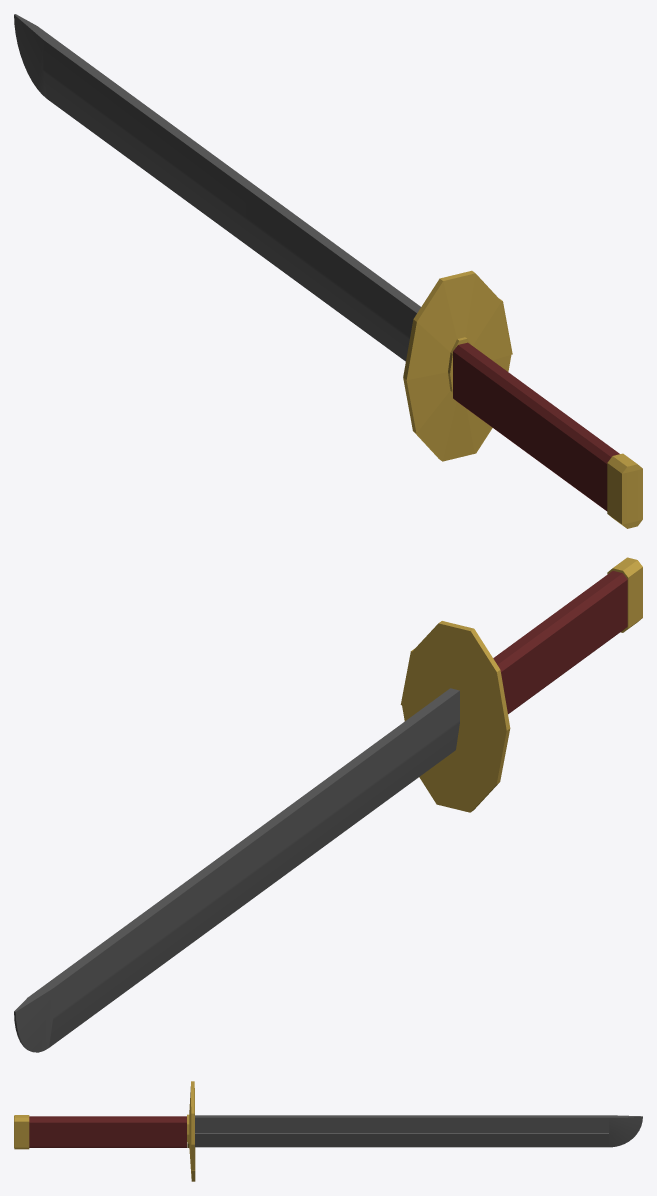
The model's file is katana.fbx.
3 renders of one model, top to bottom at view 1: azimuth 30°, elevation 25°; view 2: azimuth 150°, elevation 25°; view 3: azimuth 270°, elevation 25°, orthographic. The views are drawn at different scales.
Parts seen in each view (by area): view 1: pCube4; view 2: pCube4; view 3: pCube4.
Part boxes in pixels (<box>): pCube4: <box>14,14,642,528</box>; pCube4: <box>14,557,642,1052</box>; pCube4: <box>14,1081,642,1181</box>.
Size of the model in its own units: 0.4322 by 0.7049 by 4.36.
